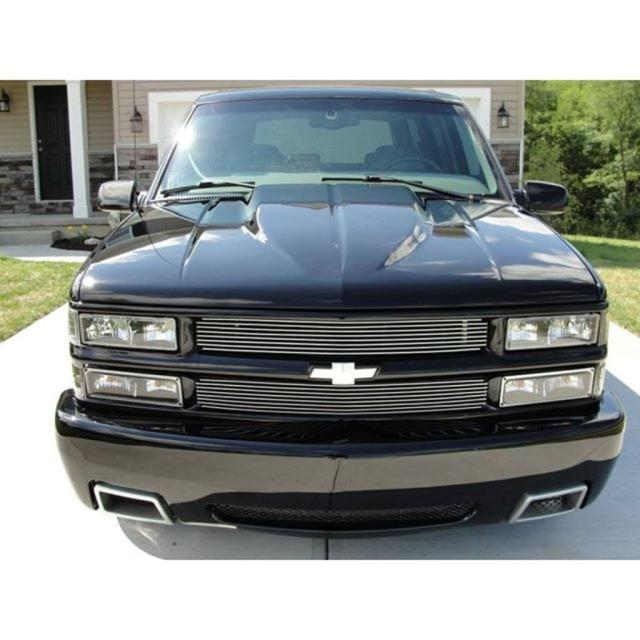car: (52, 87, 626, 540)
